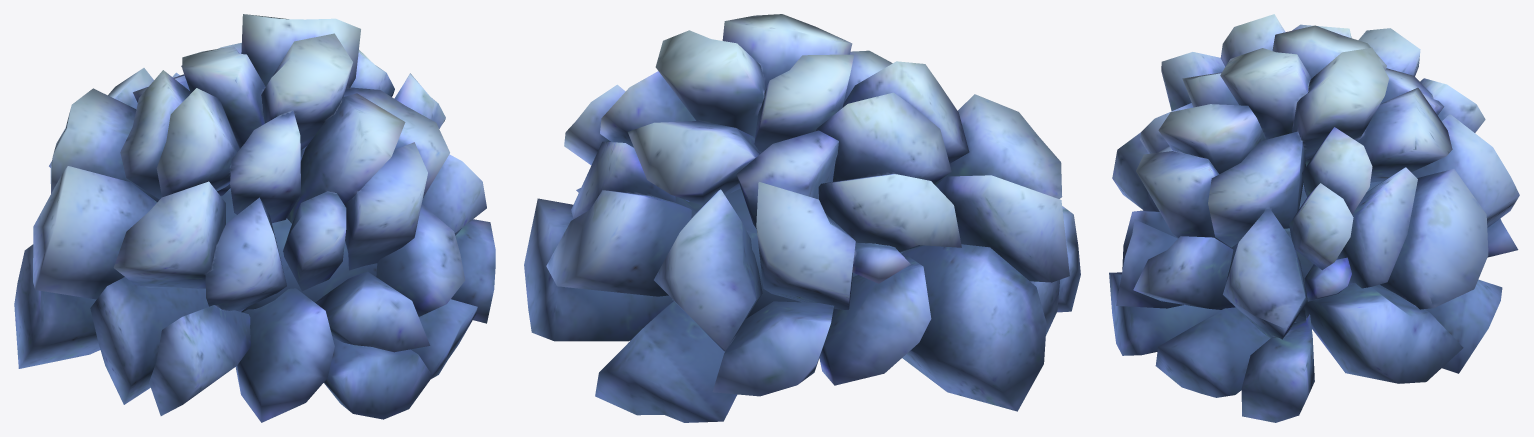
File: Sce_Aquarium_Hawaii01_SeaAnemone04_a.FBX
3 views of the same model, side by side, from view 1: azimuth 30°, elevation 25°; view 2: azimuth 150°, elevation 25°; view 3: azimuth 270°, elevation 25° (orthographic). The views are drawn at different scales.
Parts seen in each view (by area): view 1: Sce_Aquarium_Hawaii01_SeaAnemone04_a; view 2: Sce_Aquarium_Hawaii01_SeaAnemone04_a; view 3: Sce_Aquarium_Hawaii01_SeaAnemone04_a.
Part boxes in pixels (box(x1,y1,x2,y2)): Sce_Aquarium_Hawaii01_SeaAnemone04_a: box(14, 14, 495, 422); Sce_Aquarium_Hawaii01_SeaAnemone04_a: box(524, 14, 1080, 422); Sce_Aquarium_Hawaii01_SeaAnemone04_a: box(1109, 14, 1519, 422).
Bounding box in the file's own units: 0.6782 × 0.4376 × 0.5381.
